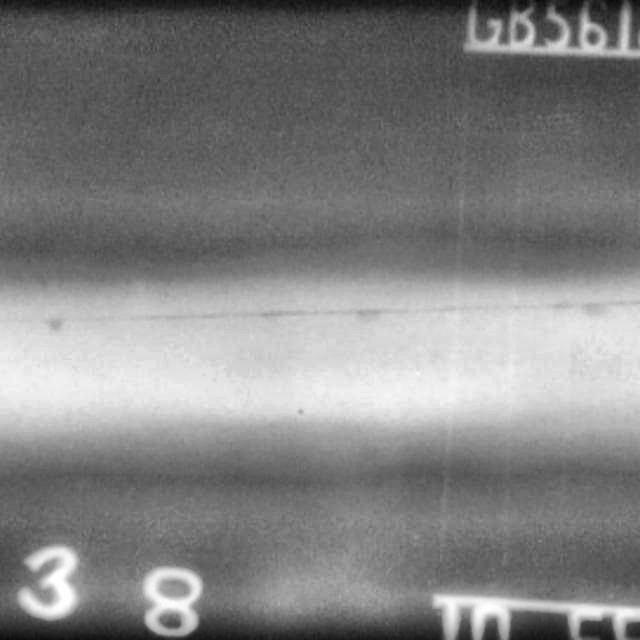LoP-LoF: (7, 293, 640, 343)
